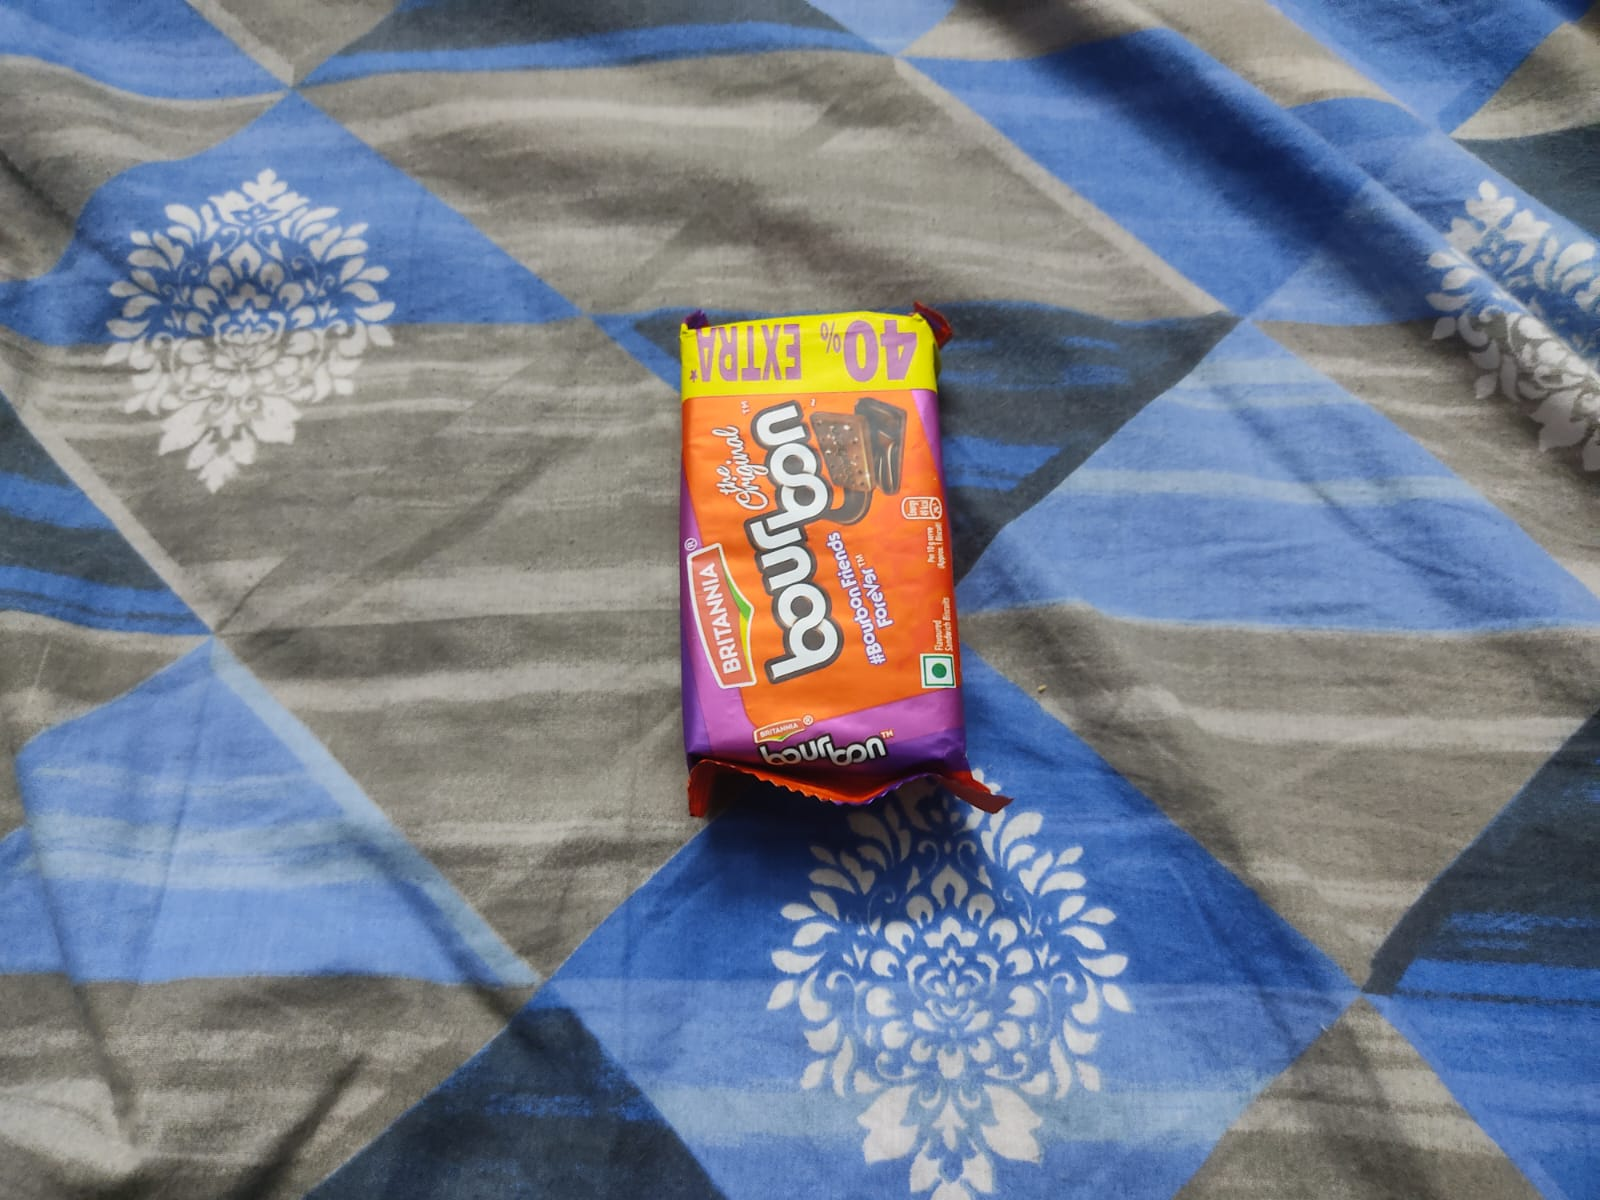010_Bourbon: (677, 314, 960, 774)
